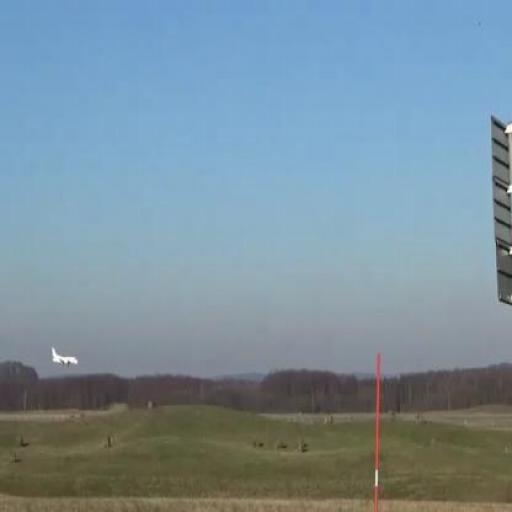aircraft: (50, 346, 79, 367)
